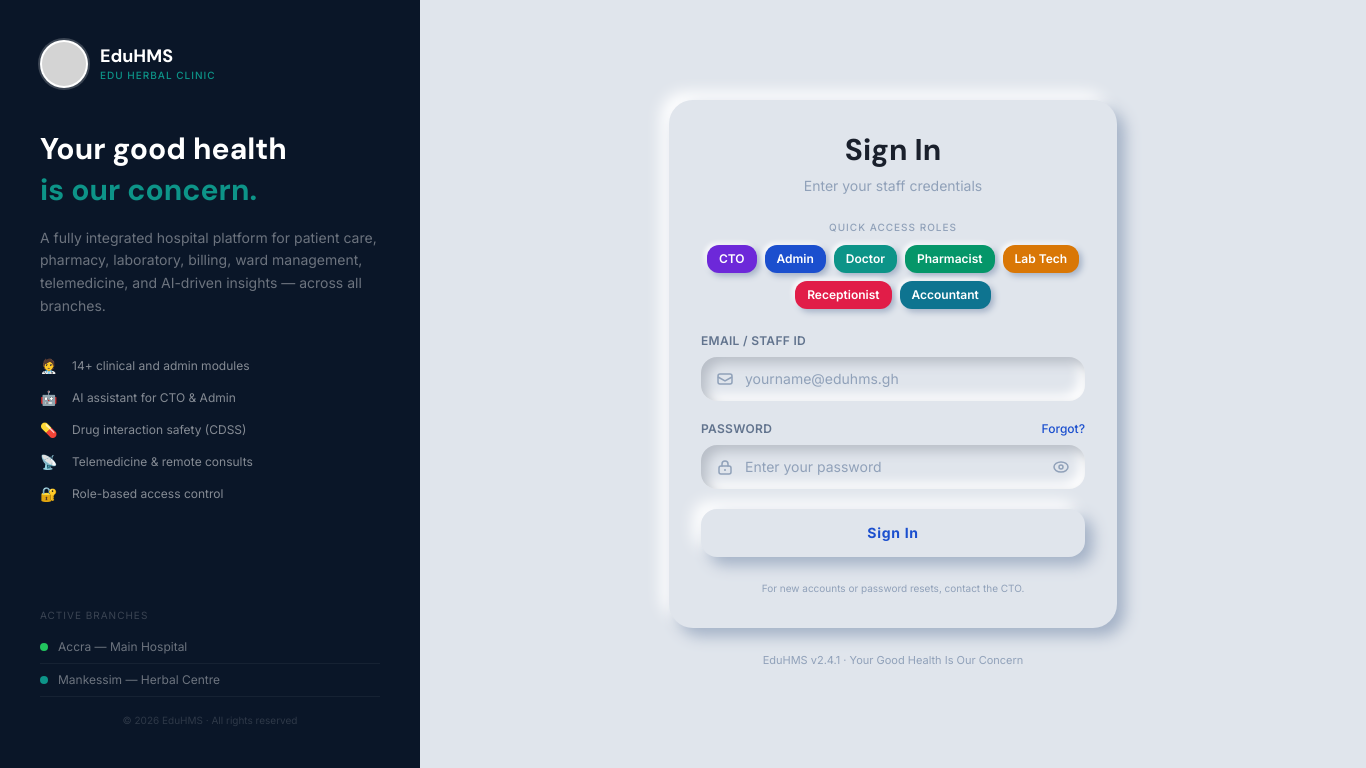
Scenario: Login Page User Journey & Adversarial UI Validation › ADVERSARIAL: Displays server connectivity error banner when API is unreachable
Type "admin@eduhms.gh" into the field with placeholder "yourname@eduhms.gh".
click(907, 379); type("admin@eduhms.gh")  # box x1=745 y1=369 x2=1069 y2=389
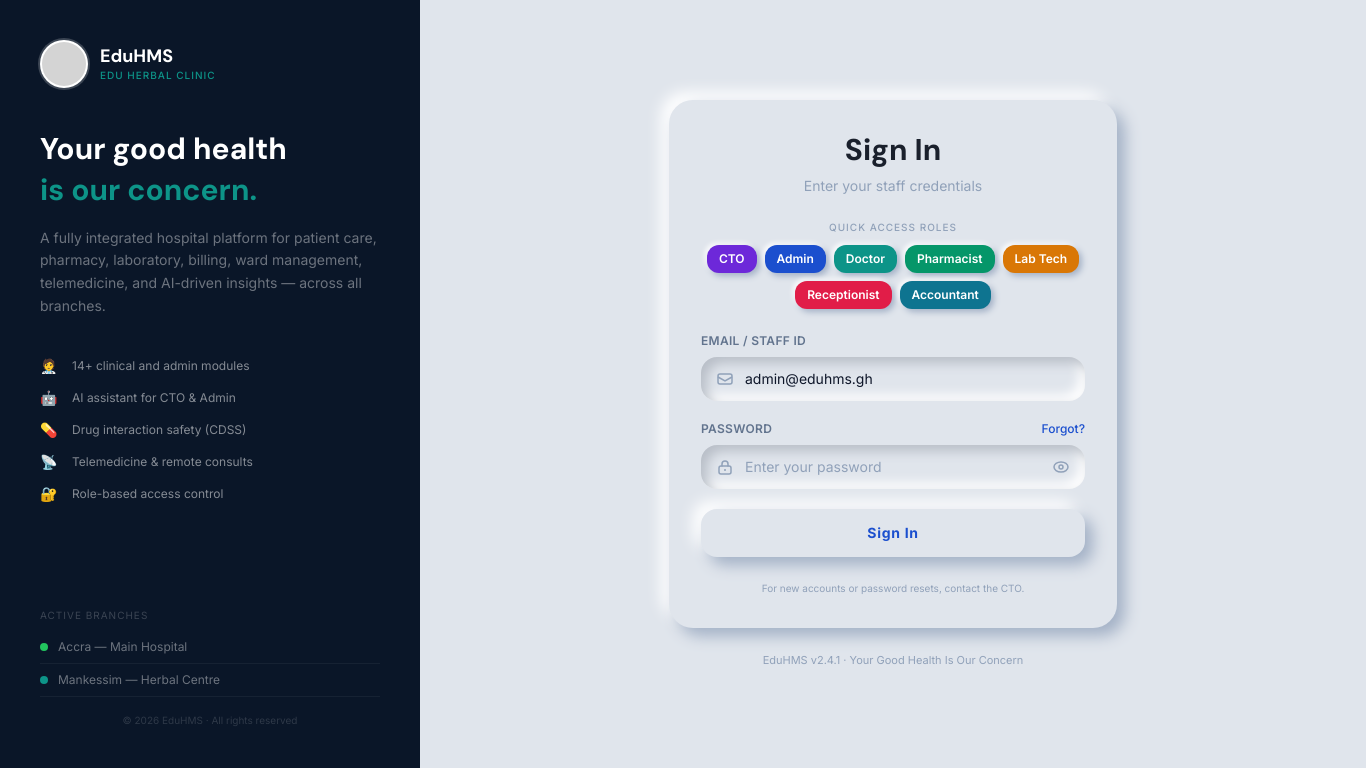
Type "Secret#2026" into the password field with placeholder "Enter your password".
click(893, 467); type("Secret#2026")  # box x1=745 y1=457 x2=1041 y2=477
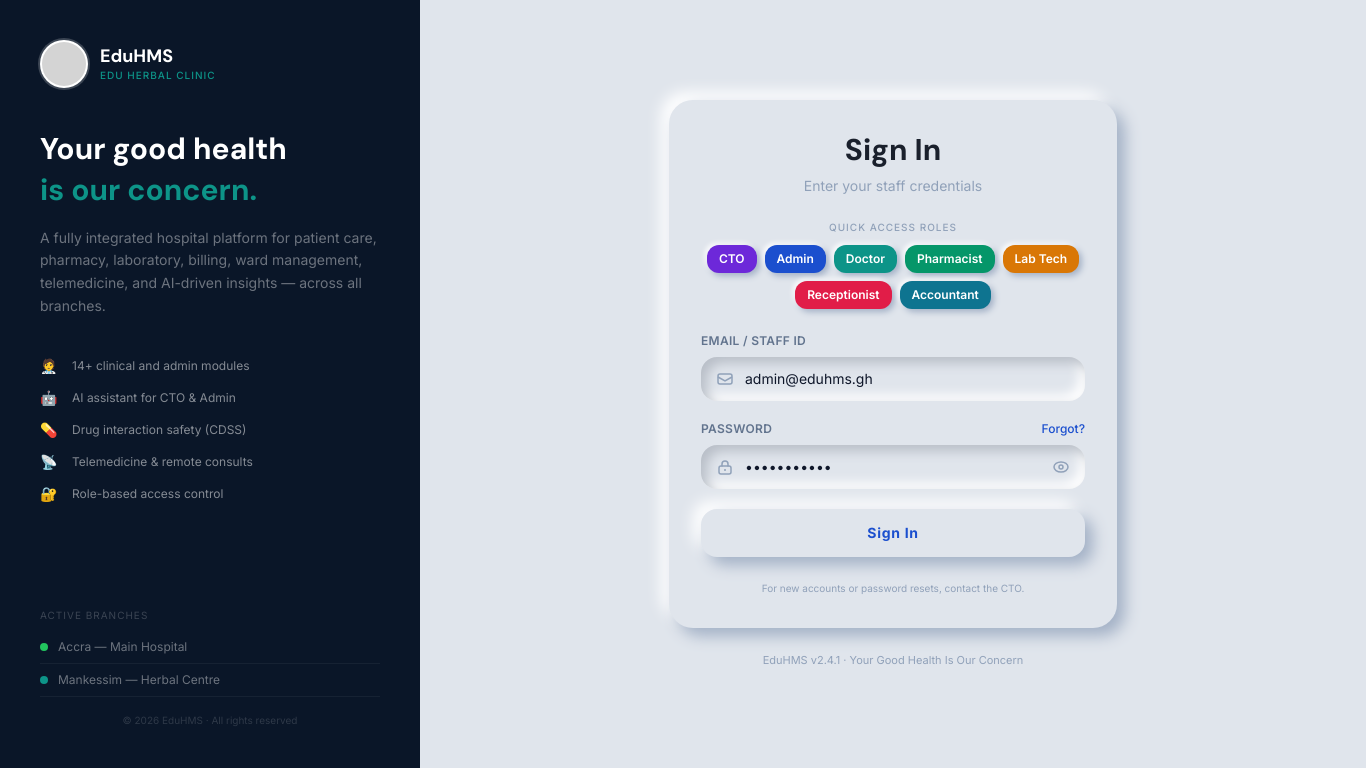
Click the button "Sign In".
click(893, 533)  # box x1=701 y1=509 x2=1085 y2=557
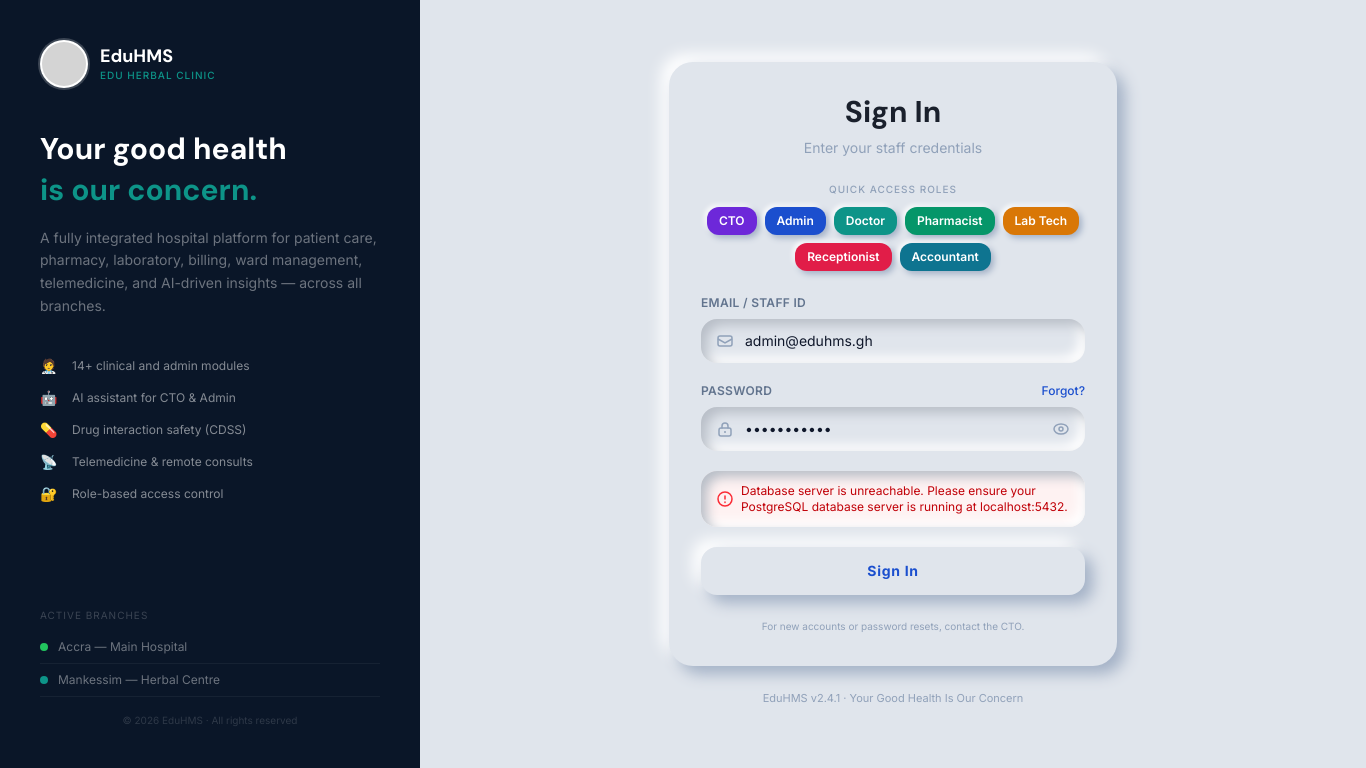
expect the text "Database server is unreachable" is shown: met, box x1=741 y1=483 x2=1068 y2=514
